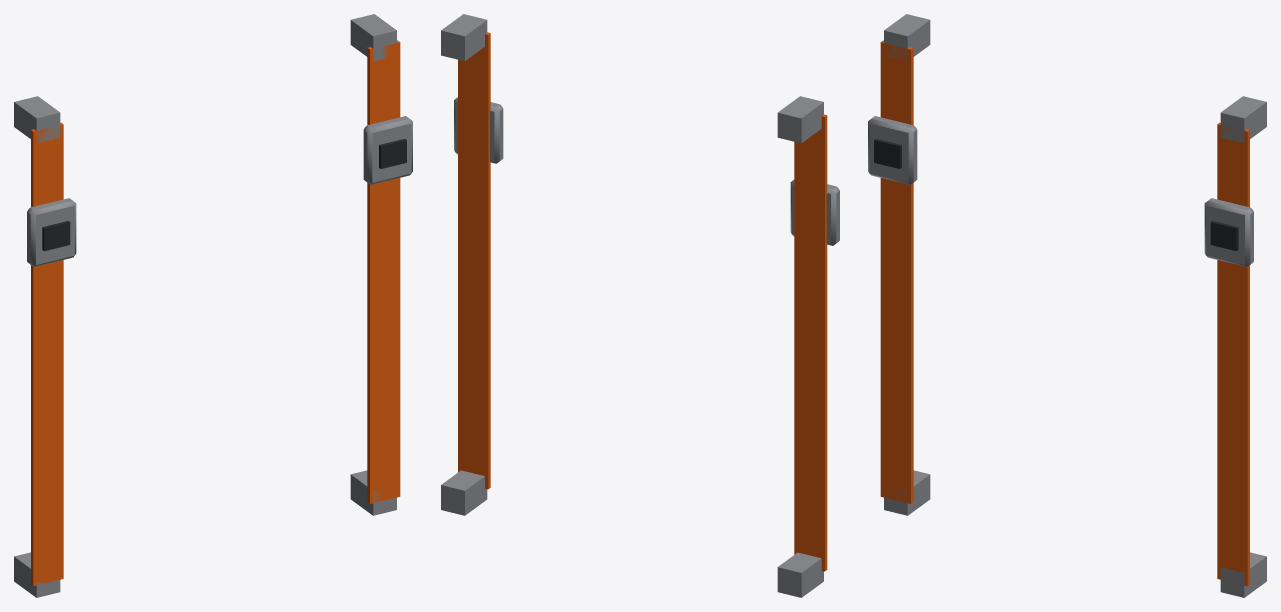
Rendered from SM_Correas_Hueco.fbx.
3 renders of one model, left to right at view 1: azimuth 30°, elevation 25°; view 2: azimuth 150°, elevation 25°; view 3: azimuth 330°, elevation 25°, orthographic.
Visible parts, largest first — view 1: SM_Correas_Hueco; view 2: SM_Correas_Hueco; view 3: SM_Correas_Hueco.
Boxes of the visible parts, x1,y1,x2,y2 form: SM_Correas_Hueco: (14,14,412,597); SM_Correas_Hueco: (441,14,839,597); SM_Correas_Hueco: (868,14,1266,597).
Size of the model in its own units: 0.352 by 0.422 by 0.05.
